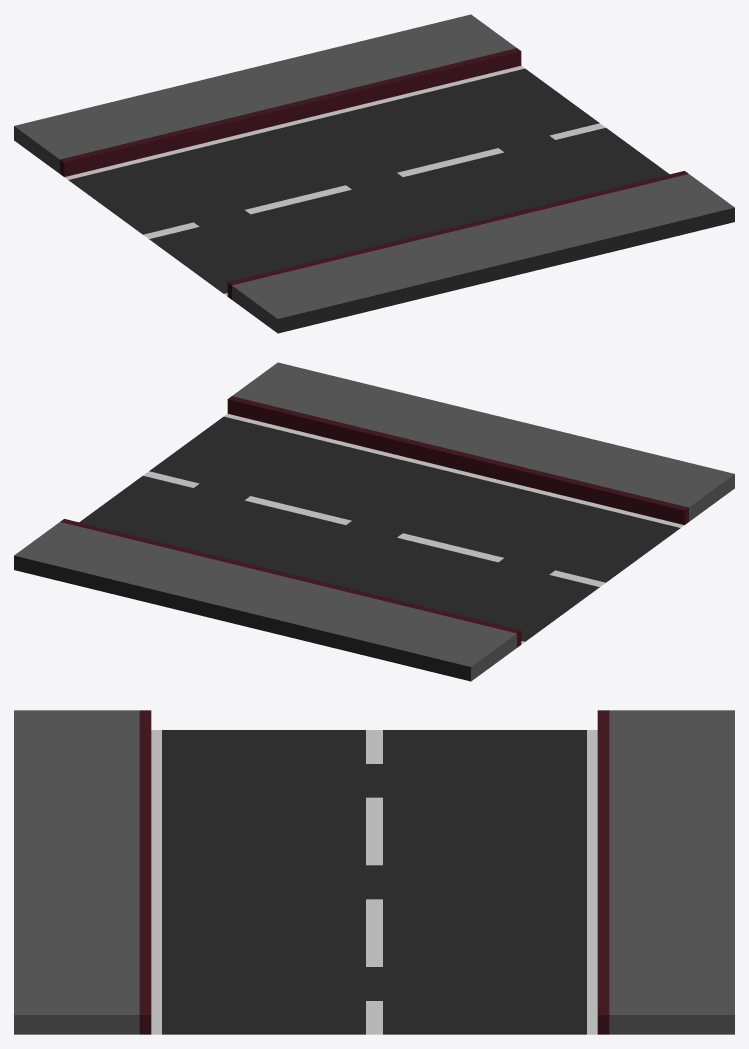
Rendered from street.obj.
The picture shows the model from 3 angles, top to bottom: view 1: azimuth 30°, elevation 25°; view 2: azimuth 150°, elevation 25°; view 3: azimuth 270°, elevation 25°; orthographic projection. The views are drawn at different scales.
Parts seen in each view (by area): view 1: Plane; view 2: Plane; view 3: Plane.
Part boxes in pixels (left/top/right/bottom): Plane: left=14, top=14, right=734, bottom=333; Plane: left=14, top=362, right=734, bottom=681; Plane: left=14, top=710, right=734, bottom=1034.
Bounding box in the file's own units: 2 × 0.0604 × 2.
